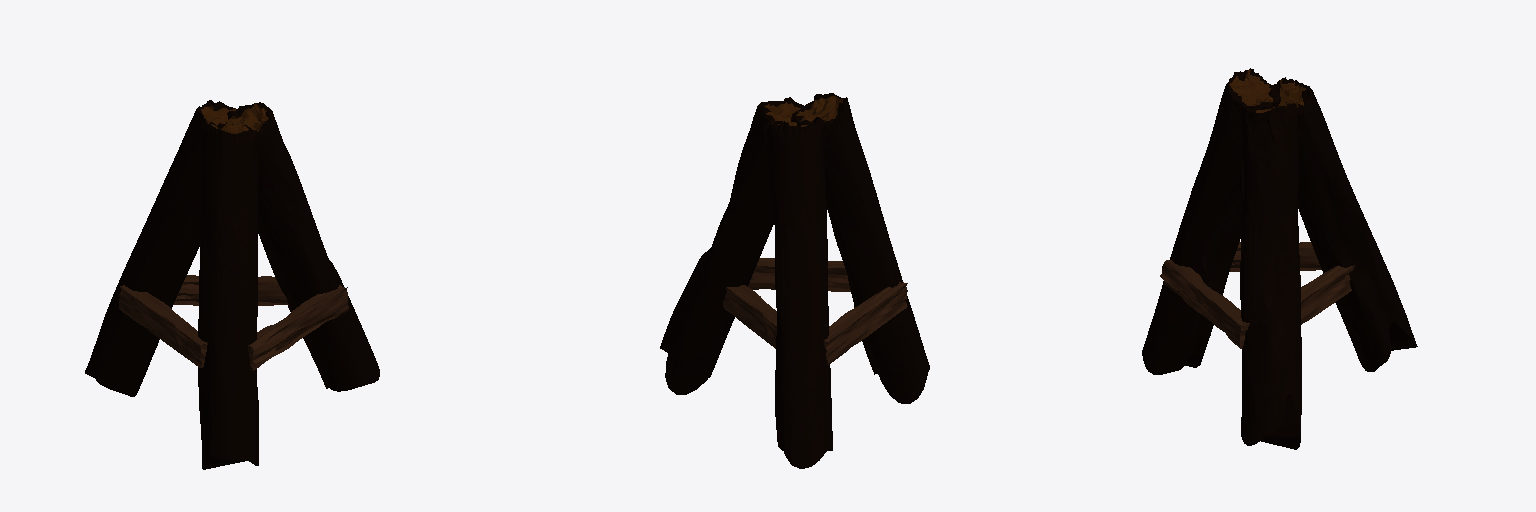
The model's file is BASEORB.obj.
3 renders of one model, left to right at view 1: azimuth 30°, elevation 25°; view 2: azimuth 150°, elevation 25°; view 3: azimuth 270°, elevation 25°, orthographic.
Visible parts, largest first — view 1: Cylinder_Cylinder.003, Cylinder.002_Cylinder.005, Cylinder.001_Cylinder.004, Cube.001_Cube.004, Cube.010, Cube.002_Cube.005; view 2: Cylinder.001_Cylinder.004, Cylinder_Cylinder.003, Cylinder.002_Cylinder.005, Cube.010, Cube.002_Cube.005, Cube.001_Cube.004; view 3: Cylinder.002_Cylinder.005, Cylinder.001_Cylinder.004, Cylinder_Cylinder.003, Cube.001_Cube.004, Cube.002_Cube.005, Cube.010.
Part boxes in pixels (bbox=[...]): Cylinder_Cylinder.003: bbox=[198, 122, 258, 469]; Cylinder.002_Cylinder.005: bbox=[226, 102, 379, 391]; Cylinder.001_Cylinder.004: bbox=[85, 100, 236, 396]; Cube.001_Cube.004: bbox=[248, 285, 348, 370]; Cube.010: bbox=[119, 285, 207, 367]; Cube.002_Cube.005: bbox=[173, 275, 288, 305]; Cylinder.001_Cylinder.004: bbox=[764, 117, 832, 468]; Cylinder_Cylinder.003: bbox=[791, 93, 929, 403]; Cylinder.002_Cylinder.005: bbox=[660, 97, 803, 394]; Cube.010: bbox=[823, 282, 907, 364]; Cube.002_Cube.005: bbox=[723, 285, 776, 348]; Cube.001_Cube.004: bbox=[748, 258, 850, 291]; Cylinder.002_Cylinder.005: bbox=[1240, 103, 1301, 449]; Cylinder.001_Cylinder.004: bbox=[1269, 77, 1417, 371]; Cylinder_Cylinder.003: bbox=[1142, 68, 1280, 374]; Cube.001_Cube.004: bbox=[1160, 260, 1249, 348]; Cube.002_Cube.005: bbox=[1301, 265, 1354, 324]; Cube.010: bbox=[1230, 242, 1321, 271].
Size of the model in its own units: 7.96 by 10.61 by 8.42.